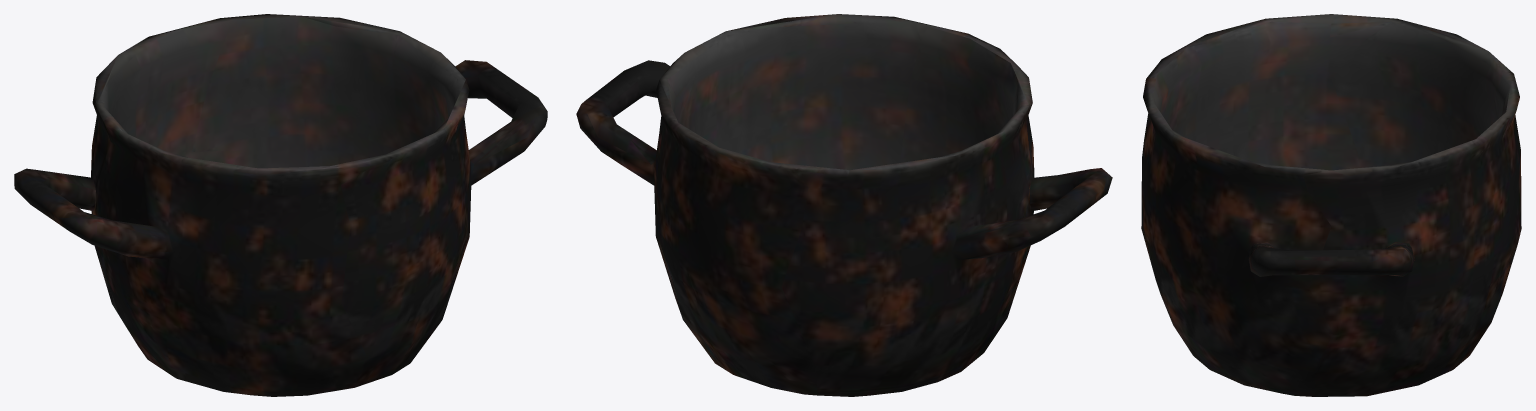
File: ph_pot.glb
3 renders of one model, left to right at view 1: azimuth 30°, elevation 25°; view 2: azimuth 150°, elevation 25°; view 3: azimuth 270°, elevation 25°, orthographic.
Visible parts, largest first — view 1: pot; view 2: pot; view 3: pot.
Boxes of the visible parts, x1,y1,x2,y2 form: pot: (14,14,547,396); pot: (576,14,1112,396); pot: (1141,14,1521,396).
Size of the model in its own units: 0.4201 by 0.2109 by 0.2874.
Materials: 1 (1 with a texture image).
